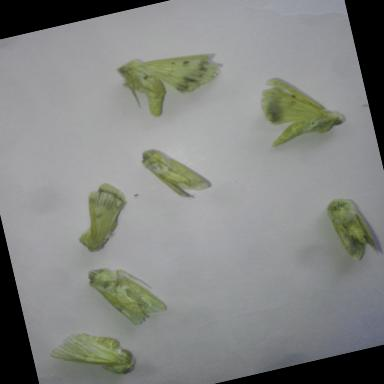abw: (111, 36, 237, 128), (246, 56, 354, 154), (76, 252, 176, 340), (38, 311, 150, 384), (63, 172, 148, 262), (130, 130, 221, 213), (320, 187, 384, 271)
